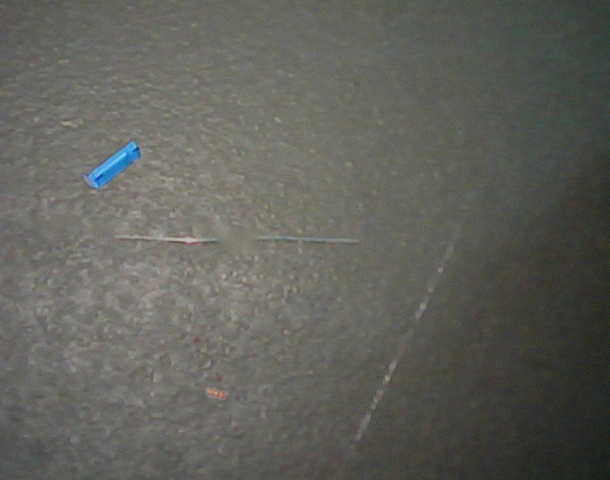capacitor: (82, 140, 142, 189)
resistor: (206, 388, 226, 399)
